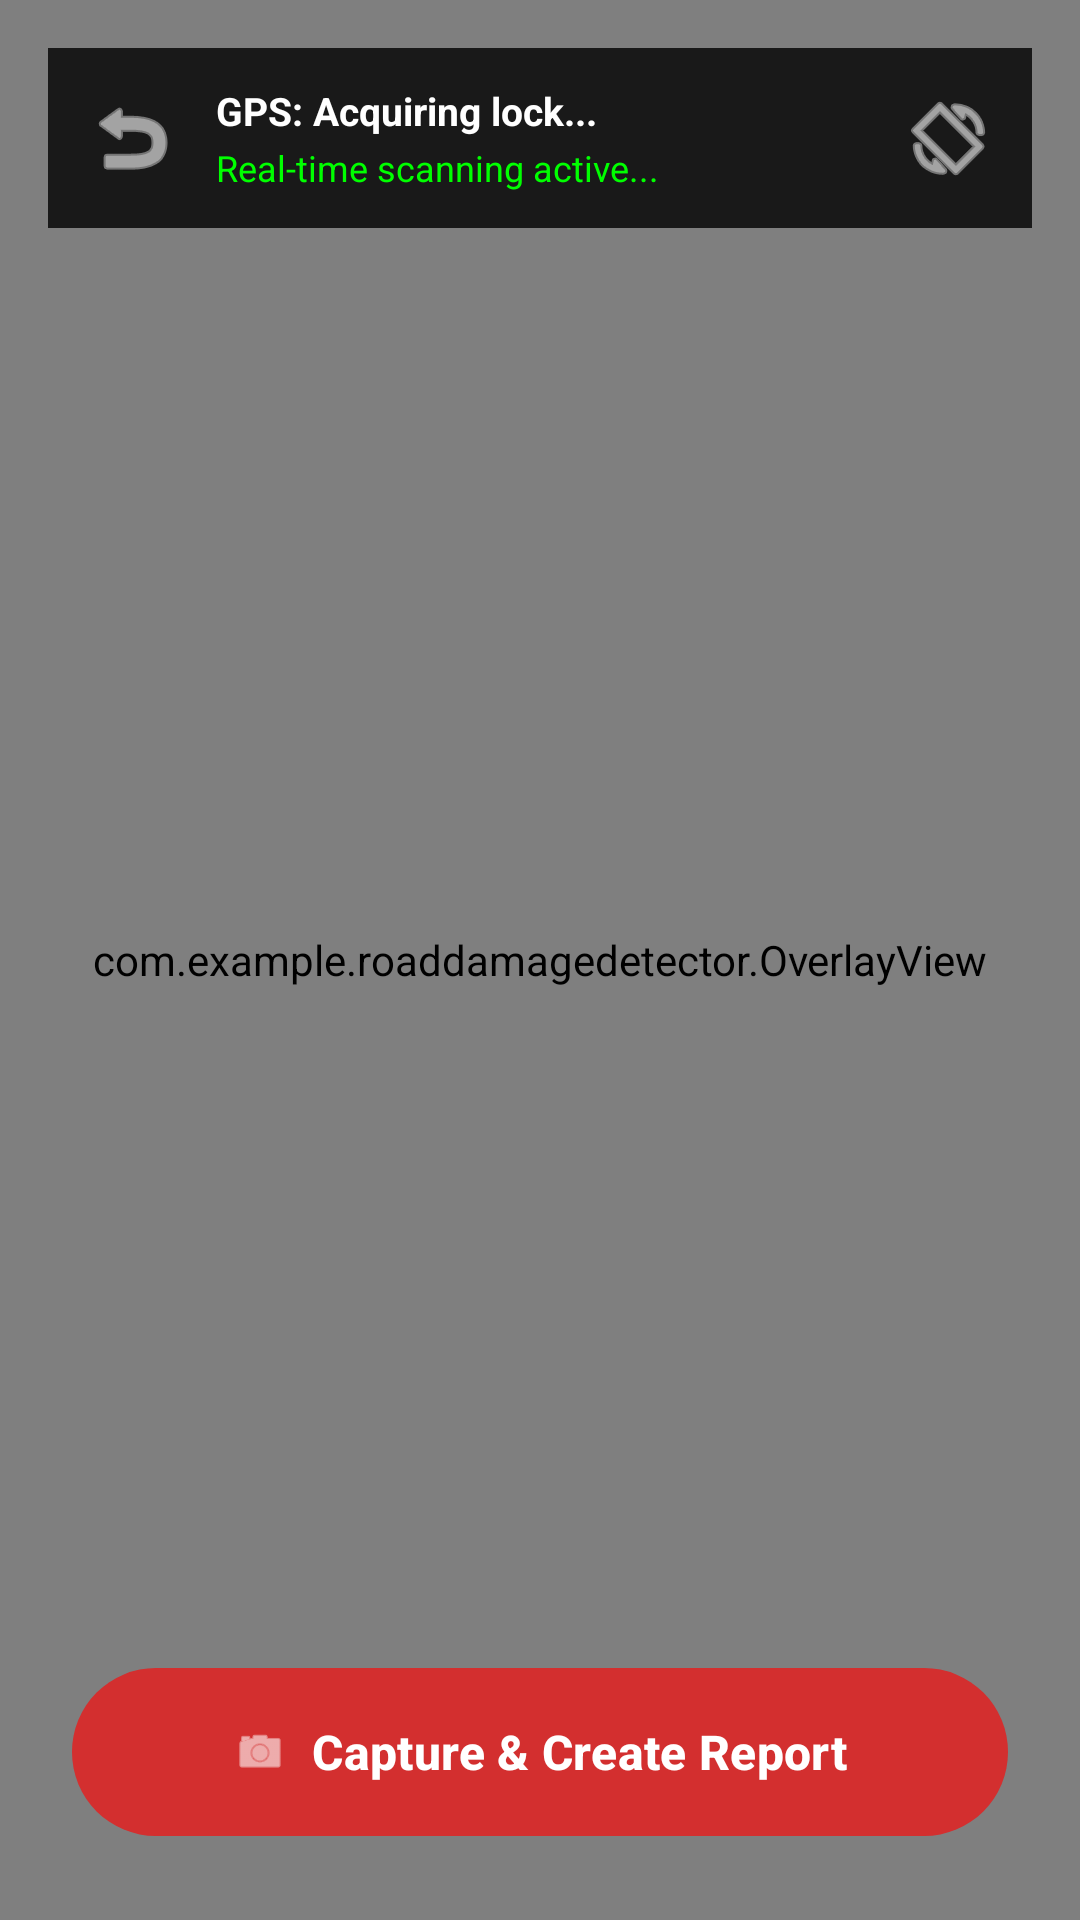

Screen size 1080px×1920px. Icon name, then its center in pixels as (x,y):
Back: (133,138)
